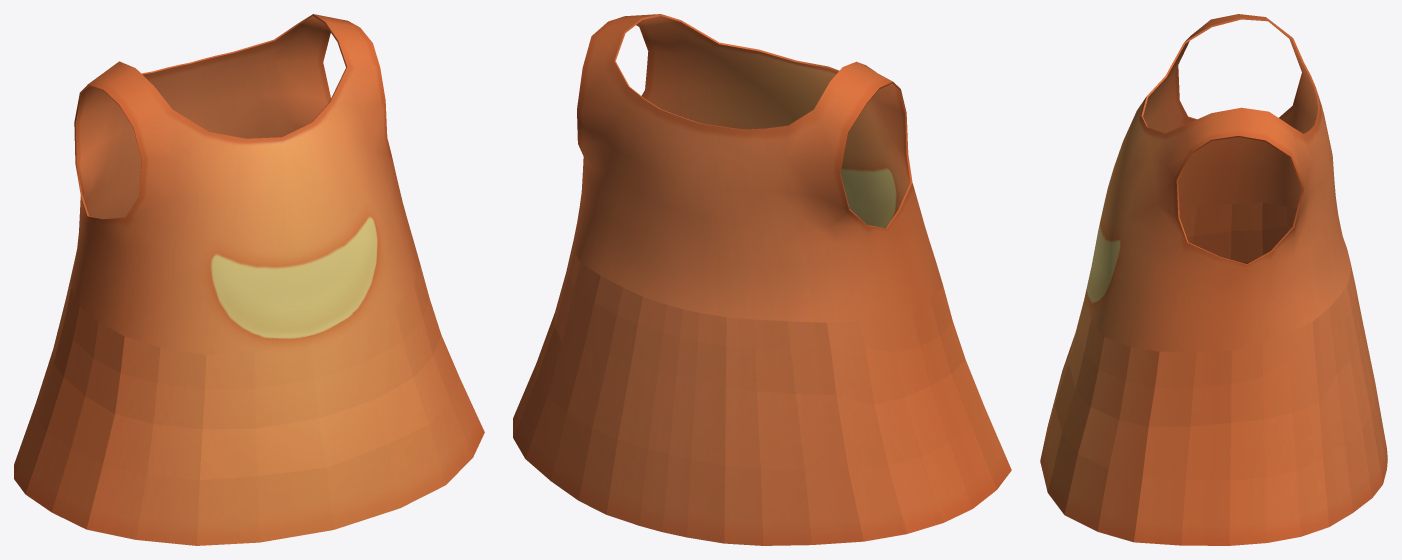
The model's file is 女生1级服装001.FBX.
3 renders of one model, left to right at view 1: azimuth 30°, elevation 25°; view 2: azimuth 150°, elevation 25°; view 3: azimuth 270°, elevation 25°, orthographic. The views are drawn at different scales.
Visible parts, largest first — view 1: 女生1级服装001; view 2: 女生1级服装001; view 3: 女生1级服装001.
Boxes of the visible parts, x1,y1,x2,y2 form: 女生1级服装001: (14, 14, 484, 545); 女生1级服装001: (513, 14, 1011, 545); 女生1级服装001: (1040, 14, 1387, 545).
Size of the model in its own units: 25.18 by 23.32 by 18.43.
